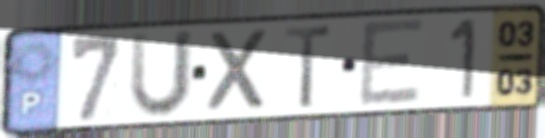1: (447, 16, 478, 103)
7: (69, 35, 123, 125)
E: (357, 16, 427, 111)
T: (281, 23, 337, 112)
U: (125, 28, 198, 122)
X: (206, 26, 273, 117)
